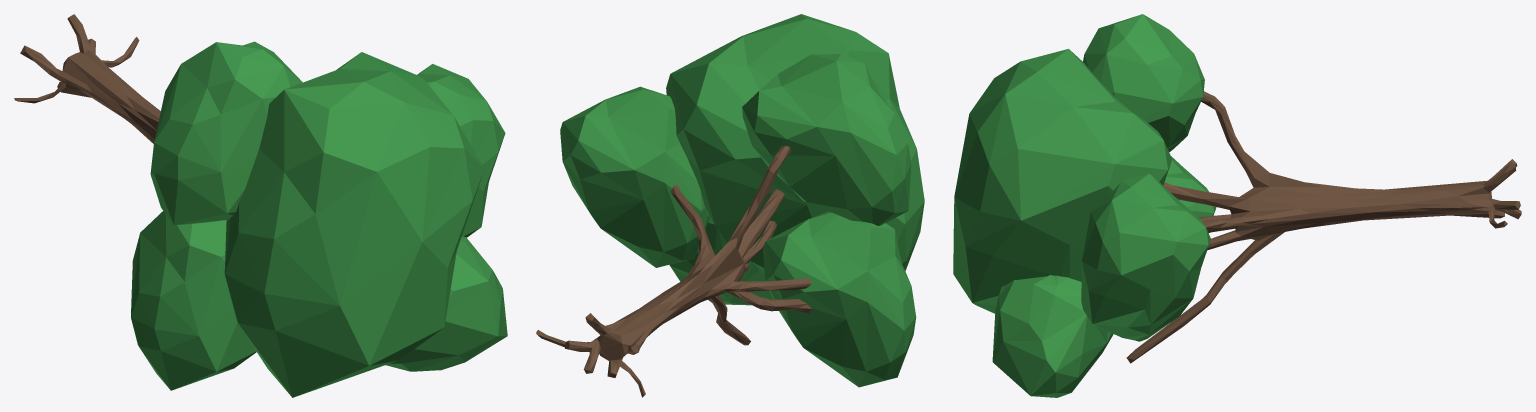
The model's file is tree2.fbx.
3 renders of one model, left to right at view 1: azimuth 30°, elevation 25°; view 2: azimuth 150°, elevation 25°; view 3: azimuth 270°, elevation 25°, orthographic. The views are drawn at different scales.
Visible parts, largest first — view 1: Group63488.008, Group63485.008, Group63486.008, Group63476.008, Tree8, Group63487.008; view 2: Group63488.008, Group63485.008, Group63486.008, Group63487.008, Tree8, Group63476.008; view 3: Group63488.008, Tree8, Group63487.008, Group63476.008, Group63485.008, Group63486.008.
Boxes of the visible parts, x1=… form: Group63488.008: x1=224, y1=52, x2=484, y2=397; Group63485.008: x1=150, y1=41, x2=302, y2=225; Group63486.008: x1=131, y1=211, x2=256, y2=390; Group63476.008: x1=385, y1=236, x2=507, y2=371; Tree8: x1=14, y1=14, x2=160, y2=143; Group63487.008: x1=417, y1=64, x2=505, y2=237; Group63488.008: x1=666, y1=14, x2=924, y2=273; Group63485.008: x1=742, y1=54, x2=911, y2=225; Group63486.008: x1=763, y1=211, x2=916, y2=387; Group63487.008: x1=560, y1=86, x2=709, y2=267; Tree8: x1=536, y1=145, x2=811, y2=397; Group63476.008: x1=669, y1=218, x2=772, y2=305; Group63488.008: x1=953, y1=49, x2=1172, y2=313; Tree8: x1=1126, y1=91, x2=1521, y2=363; Group63487.008: x1=1081, y1=173, x2=1210, y2=341; Group63476.008: x1=992, y1=275, x2=1113, y2=397; Group63485.008: x1=1083, y1=14, x2=1204, y2=152; Group63486.008: x1=1164, y1=156, x2=1216, y2=231.
Size of the model in its own units: 2830 by 2536 by 4274.
